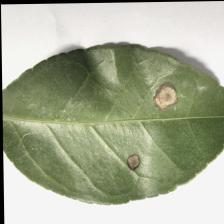canker: (108, 70, 183, 192)
